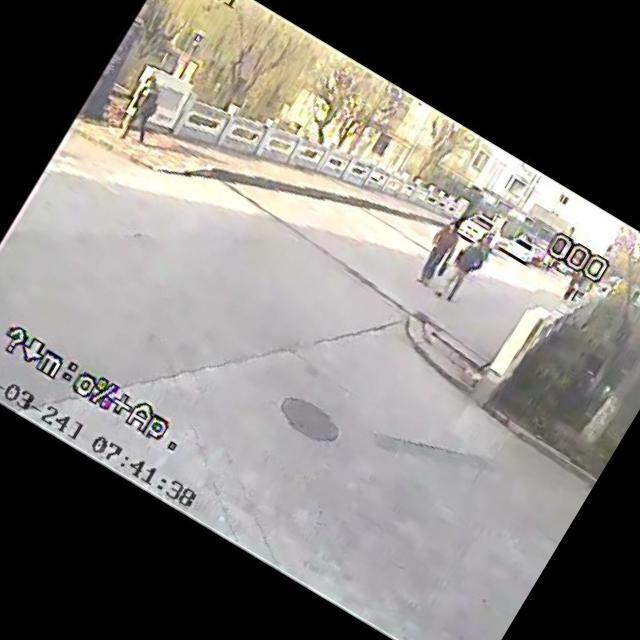person: (391, 198, 477, 302), (102, 58, 186, 154), (428, 227, 504, 313)
